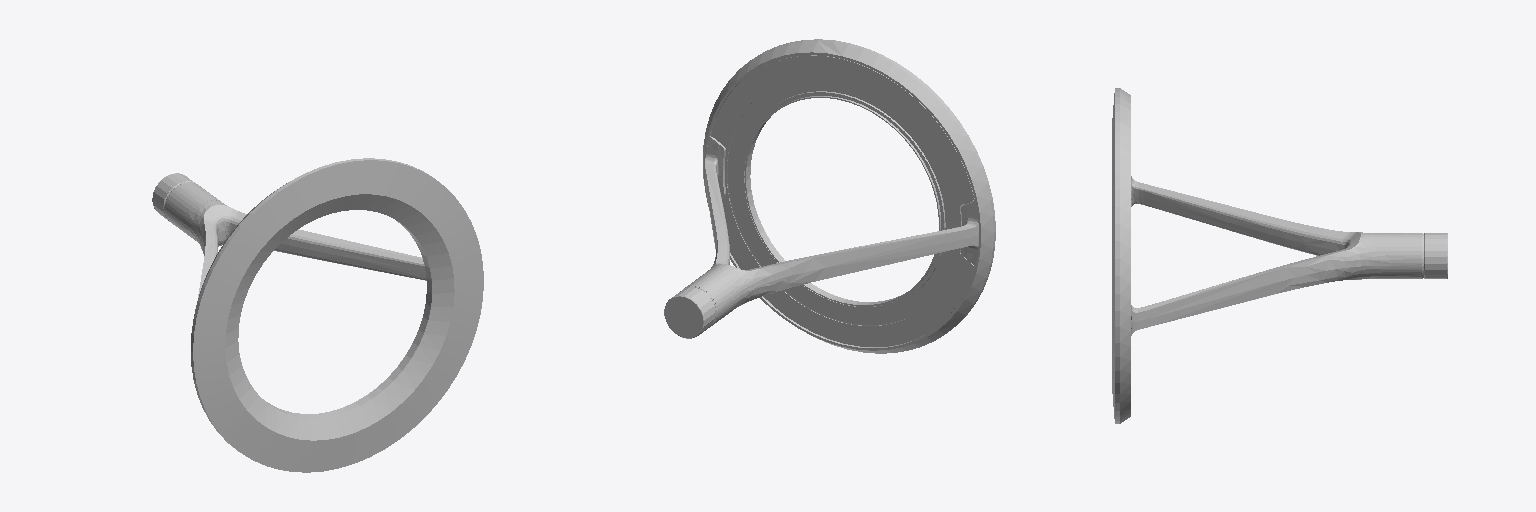
3 views of the same model, side by side, from view 1: azimuth 30°, elevation 25°; view 2: azimuth 150°, elevation 25°; view 3: azimuth 270°, elevation 25° (orthographic).
Visible parts, largest first — view 1: Siteco_DL_20_DL_20_LED; view 2: Siteco_DL_20_DL_20_LED; view 3: Siteco_DL_20_DL_20_LED.
Boxes of the visible parts, x1,y1,x2,y2 form: Siteco_DL_20_DL_20_LED: [152, 158, 483, 472]; Siteco_DL_20_DL_20_LED: [664, 39, 995, 353]; Siteco_DL_20_DL_20_LED: [1112, 88, 1447, 423].
Bounding box in the file's own units: 0.6904 × 0.6904 × 0.6894.